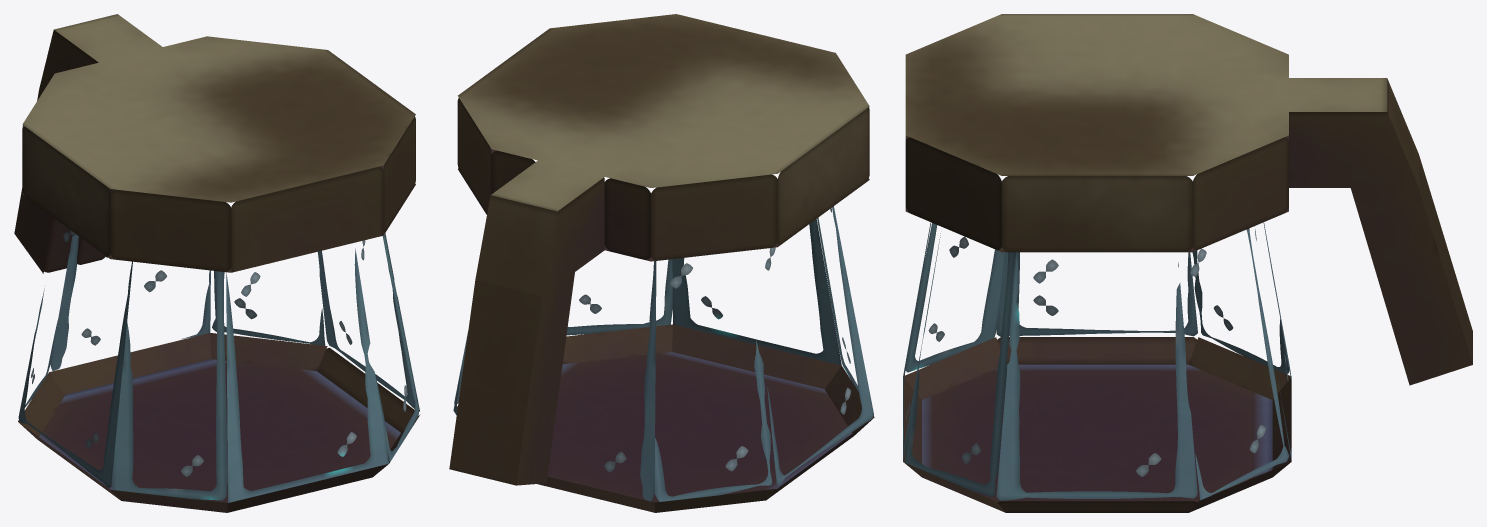
The model's file is CoffeeMachineMug.obj.
3 renders of one model, left to right at view 1: azimuth 30°, elevation 25°; view 2: azimuth 150°, elevation 25°; view 3: azimuth 270°, elevation 25°, orthographic. The views are drawn at different scales.
Visible parts, largest first — view 1: CoffeeMachineCup; view 2: CoffeeMachineCup; view 3: CoffeeMachineCup.
Part boxes in pixels (x1=…): CoffeeMachineCup: x1=14, y1=14, x2=420, y2=512; CoffeeMachineCup: x1=449, y1=14, x2=874, y2=512; CoffeeMachineCup: x1=903, y1=14, x2=1472, y2=512.
Bounding box in the file's own units: 0.4731 × 0.462 × 0.6939.
1 material, 1 textured.
